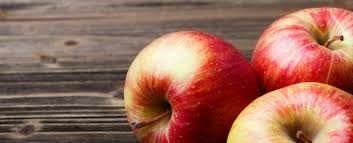apple: (124, 35, 250, 141), (226, 84, 351, 143), (253, 8, 351, 83)
